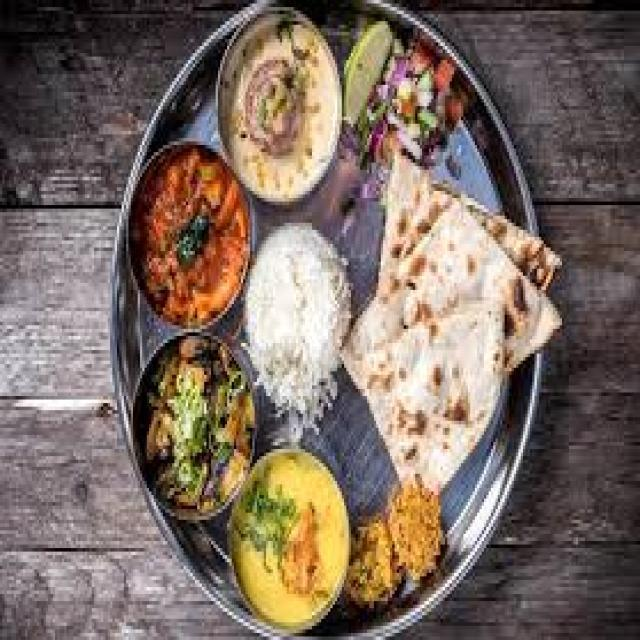rice: (245, 225, 356, 411)
roti: (348, 173, 524, 483)
veg-fry: (210, 19, 346, 212), (122, 143, 259, 332)
